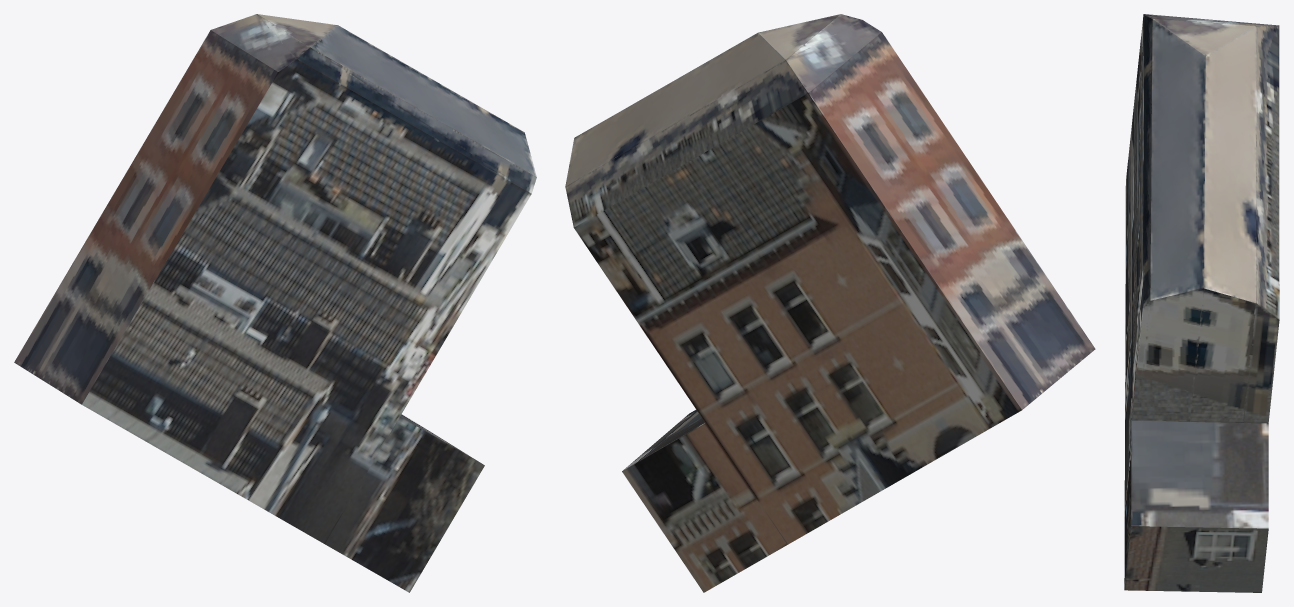
The picture shows the model from 3 angles, left to right: view 1: azimuth 30°, elevation 25°; view 2: azimuth 150°, elevation 25°; view 3: azimuth 270°, elevation 25°; orthographic projection. The views are drawn at different scales.
Visible parts, largest first — view 1: BAG_0599100000760416 (×6); view 2: BAG_0599100000760416 (×4); view 3: BAG_0599100000760416 (×6).
Boxes of the visible parts, x1=… form: BAG_0599100000760416 (×6): x1=14, y1=14, x2=536, y2=592; BAG_0599100000760416 (×4): x1=565, y1=14, x2=1095, y2=592; BAG_0599100000760416 (×6): x1=1124, y1=14, x2=1279, y2=592.
Size of the model in its own units: 18.61 by 20.6 by 5.4.
Materials: 6 (6 with a texture image).
